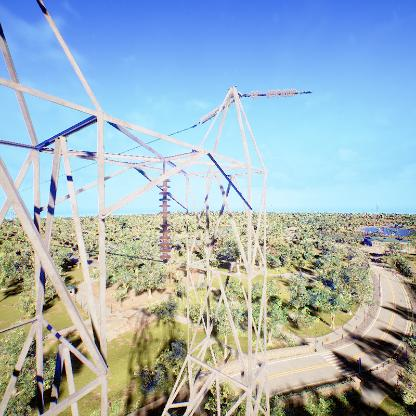insulator: (157, 174, 172, 265)
